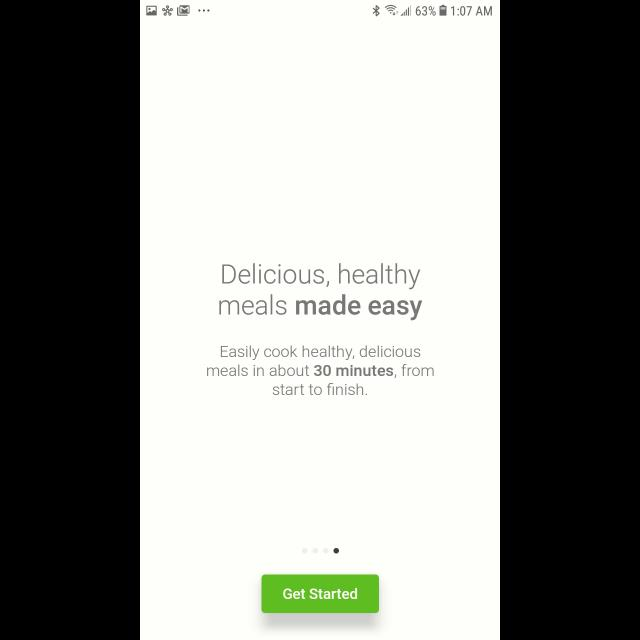pageindicator: (301, 548, 339, 554)
text: (219, 263, 423, 321), (208, 344, 434, 396)
textbutton: (261, 574, 379, 614)
uppertaskbar: (140, 1, 500, 18)
